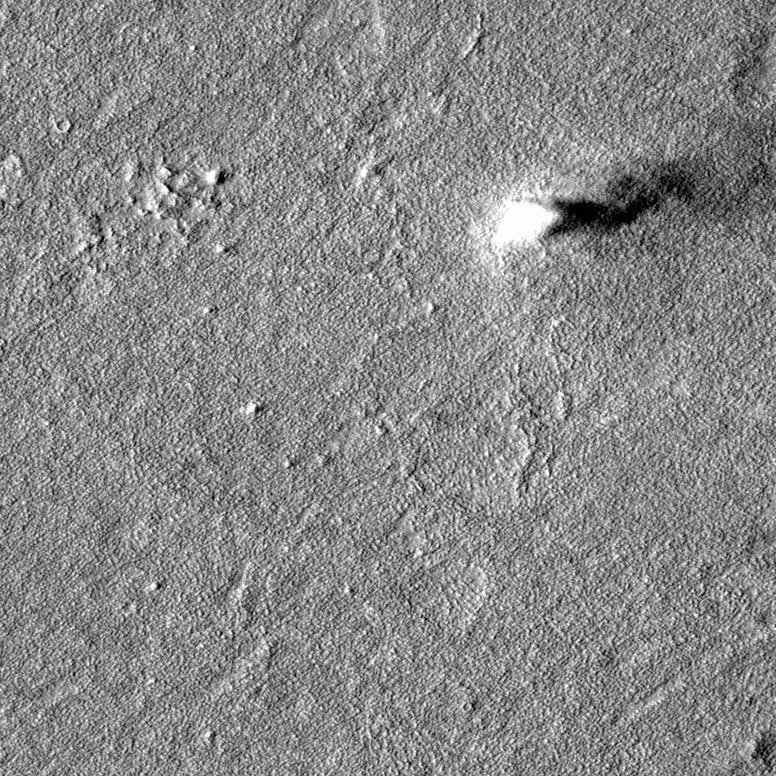dust_devil: (484, 156, 701, 250)
